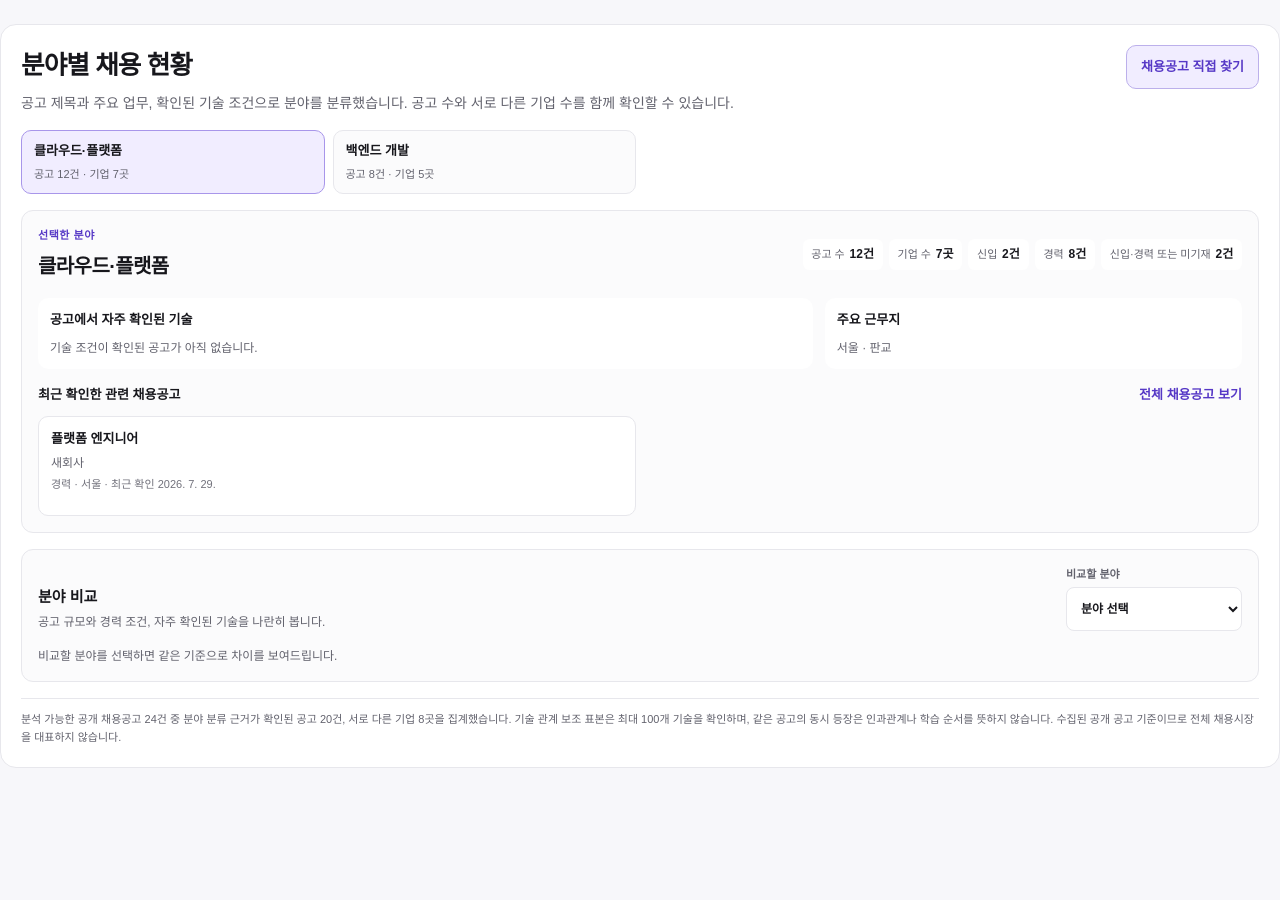
MarketFieldOverview › lets users switch and compare fields without inventing a fit score
The image size is (1280, 900).
Click the button with aria-label "백엔드 개발 분야 보기".
click(377, 150)  # box left=332, top=130, right=636, bottom=194
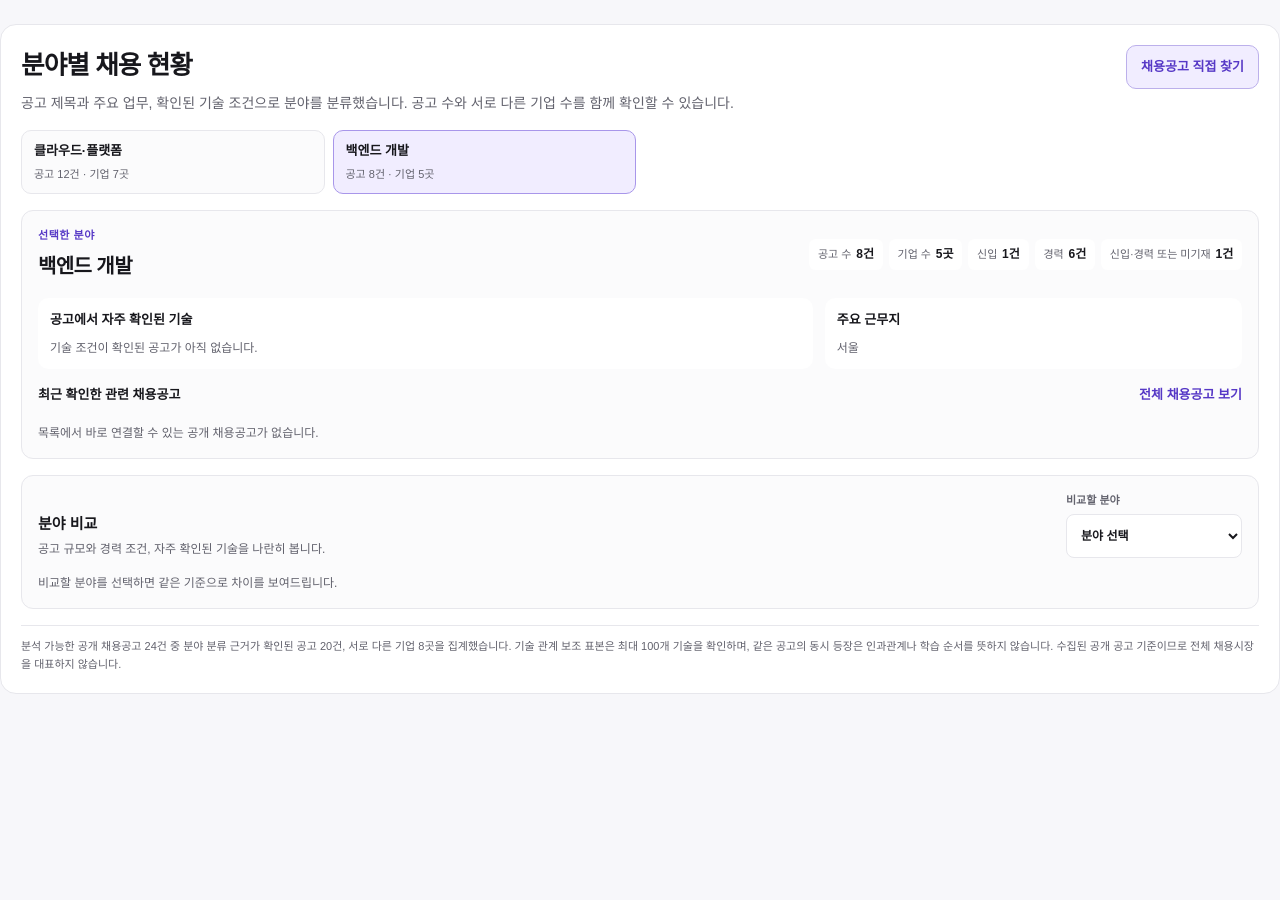
Expected: the heading "백엔드 개발" is shown, left=38, top=250, right=132, bottom=282
Select "클라우드·플랫폼" in the dropdown labelled "비교할 분야" at coordinates (1154, 536), box left=1066, top=514, right=1242, bottom=558
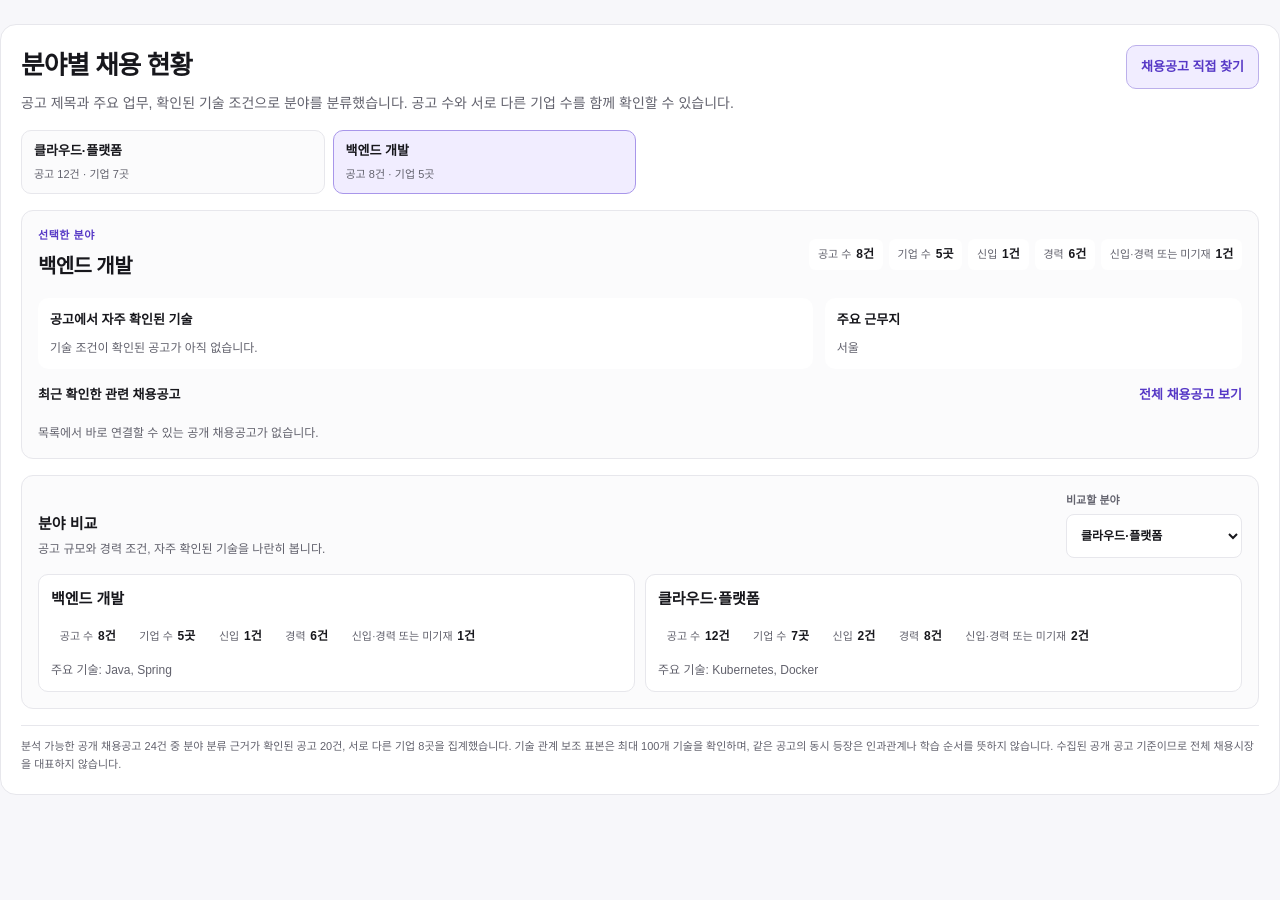
Expected: the element named "커리어 분야 비교" does not show "적합도", left=21, top=476, right=1259, bottom=710
Expected: the heading "백엔드 개발" below "공고 규모와 경력 조건, 자주 확인된 기술을 나란히 봅니다." is shown, left=51, top=590, right=124, bottom=607
Expected: the heading "클라우드·플랫폼" is shown, left=658, top=590, right=760, bottom=607
